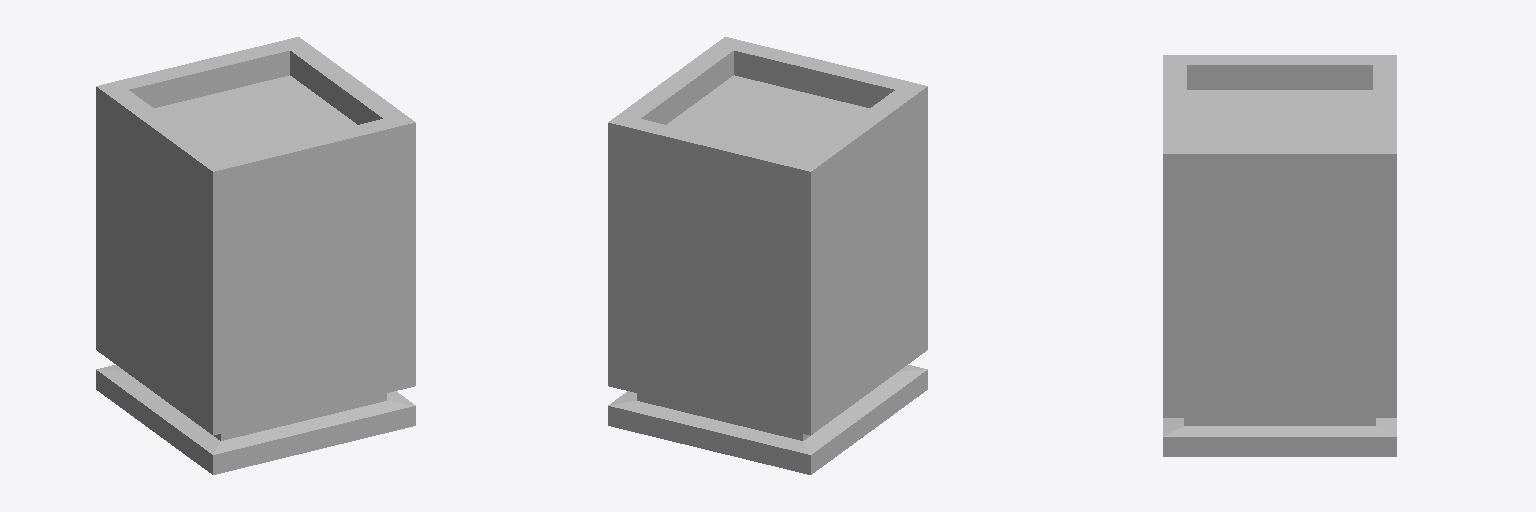
Rendered from rook.obj.
The picture shows the model from 3 angles: view 1: azimuth 30°, elevation 25°; view 2: azimuth 150°, elevation 25°; view 3: azimuth 270°, elevation 25°; orthographic projection.
Parts seen in each view (by area): view 1: Cube.001_Cube.002; view 2: Cube.001_Cube.002; view 3: Cube.001_Cube.002.
Part boxes in pixels (bbox=[...]): Cube.001_Cube.002: bbox=[96, 37, 415, 474]; Cube.001_Cube.002: bbox=[608, 37, 927, 474]; Cube.001_Cube.002: bbox=[1163, 55, 1396, 456].
Bounding box in the file's own units: 1.4 × 2 × 1.4.